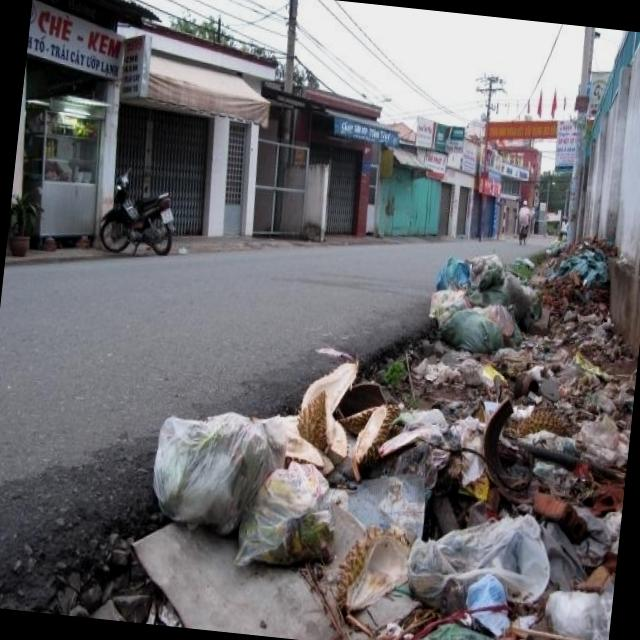garbage: (96, 241, 637, 639)
